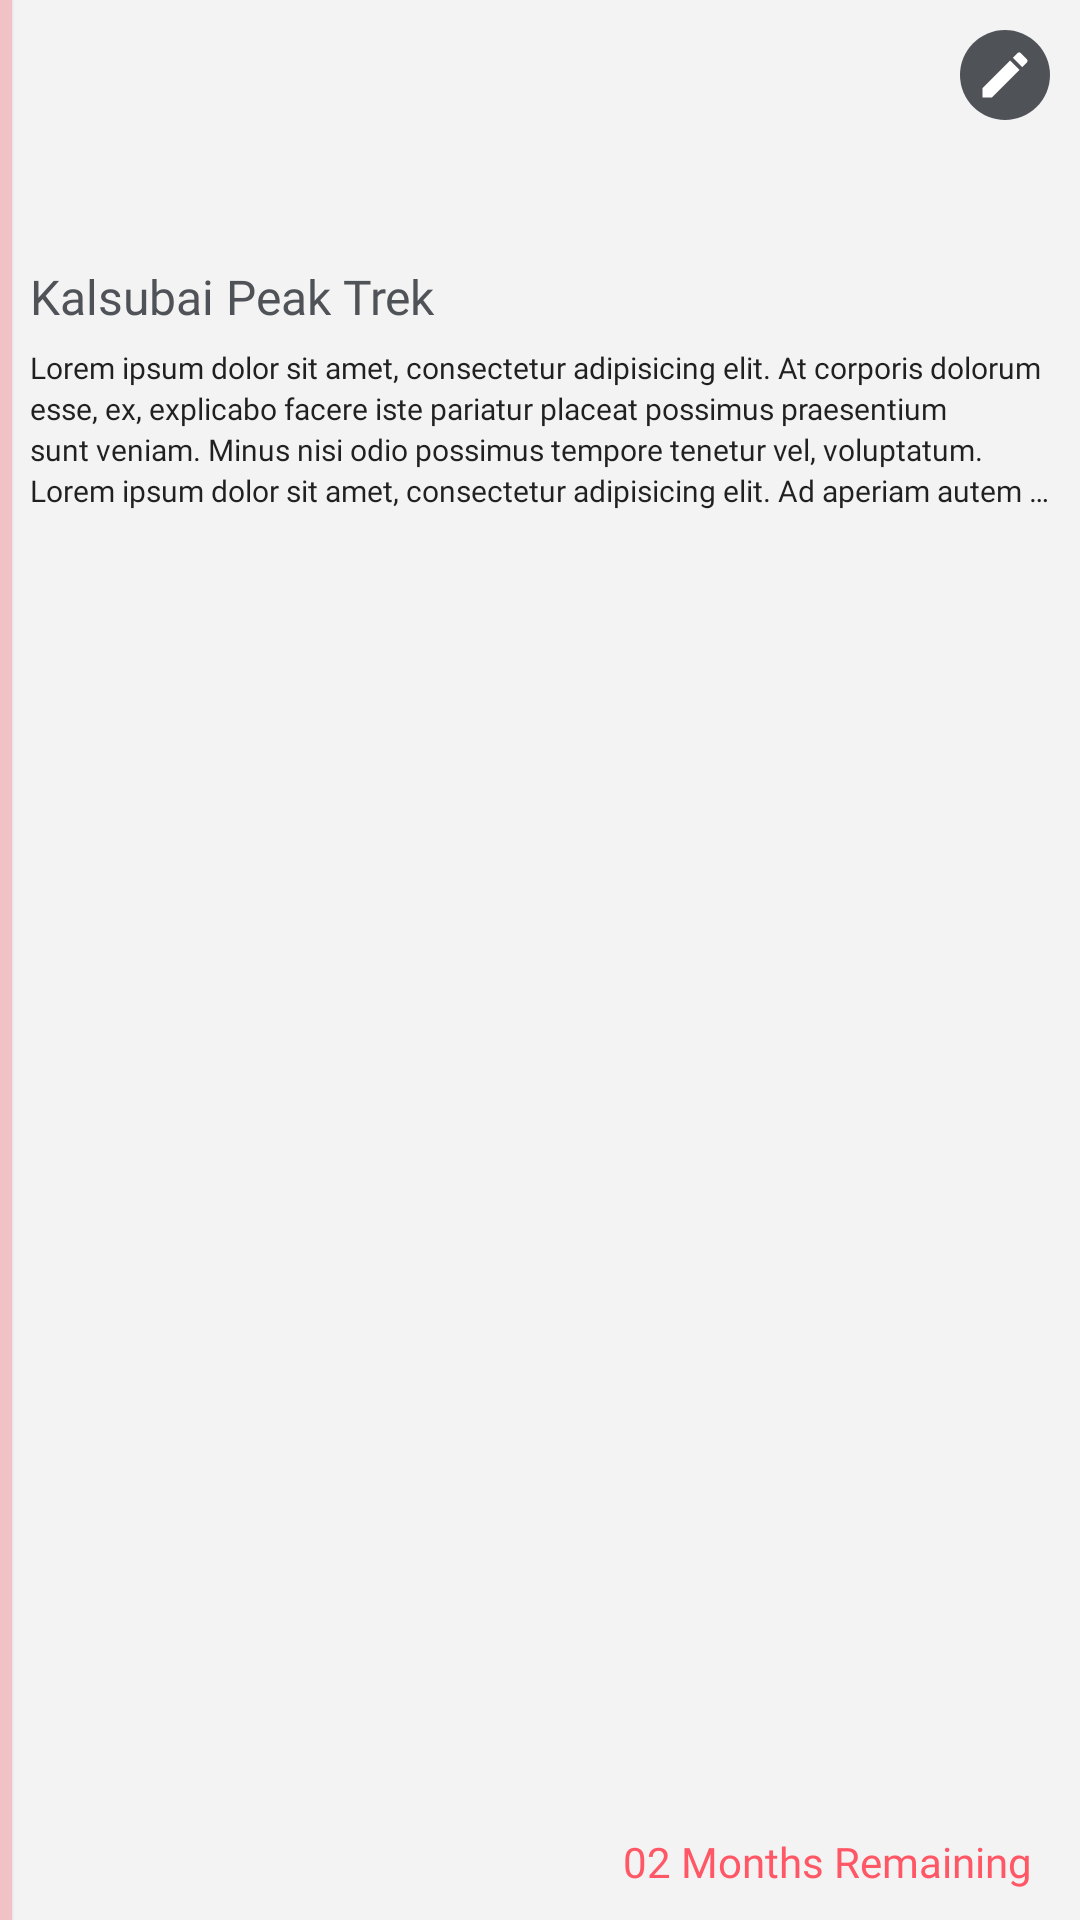

Named icons in this screenshot (1080x1920) and their bounding boxes, (x1, y1, x2, y2):
edit circular: (960, 30, 1050, 120)
